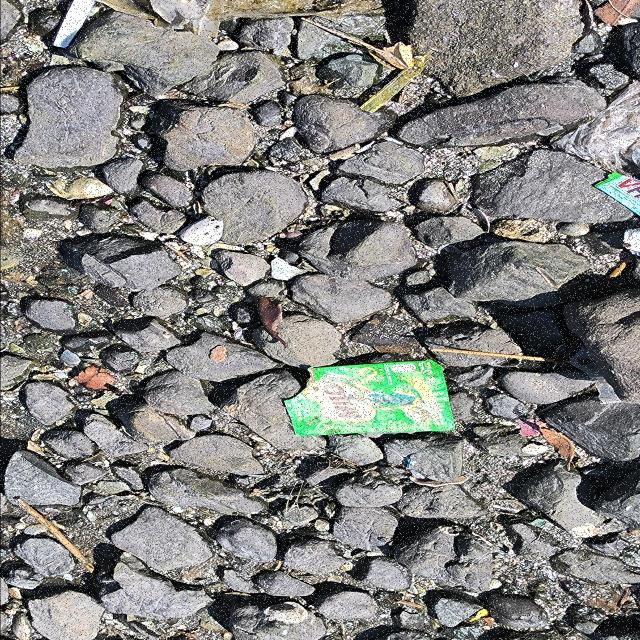plastic_waste: (282, 361, 457, 437)
